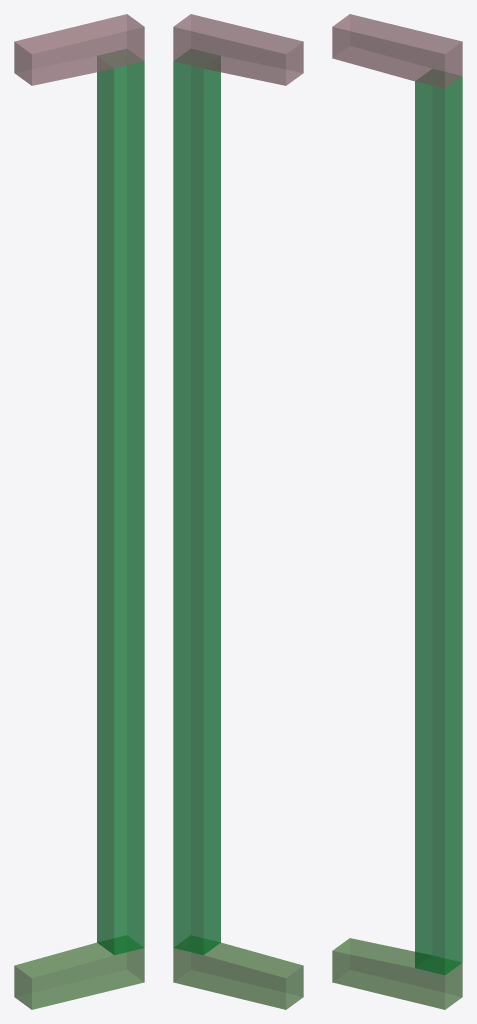
File: SinkAreaSmallHandle.obj
3 views of the same model, side by side, from view 1: azimuth 30°, elevation 25°; view 2: azimuth 150°, elevation 25°; view 3: azimuth 330°, elevation 25° (orthographic).
Visible parts, largest first — view 1: Shape_IndexedFaceSet.001_Shape_IndexedFaceSet.077; view 2: Shape_IndexedFaceSet.001_Shape_IndexedFaceSet.077; view 3: Shape_IndexedFaceSet.001_Shape_IndexedFaceSet.077.
Part boxes in pixels (x1,y1,x2,y2): Shape_IndexedFaceSet.001_Shape_IndexedFaceSet.077: [14, 14, 144, 1009]; Shape_IndexedFaceSet.001_Shape_IndexedFaceSet.077: [173, 14, 303, 1009]; Shape_IndexedFaceSet.001_Shape_IndexedFaceSet.077: [332, 14, 462, 1009].
Size of the model in its own units: 0.0626 by 0.5065 by 0.0168.
